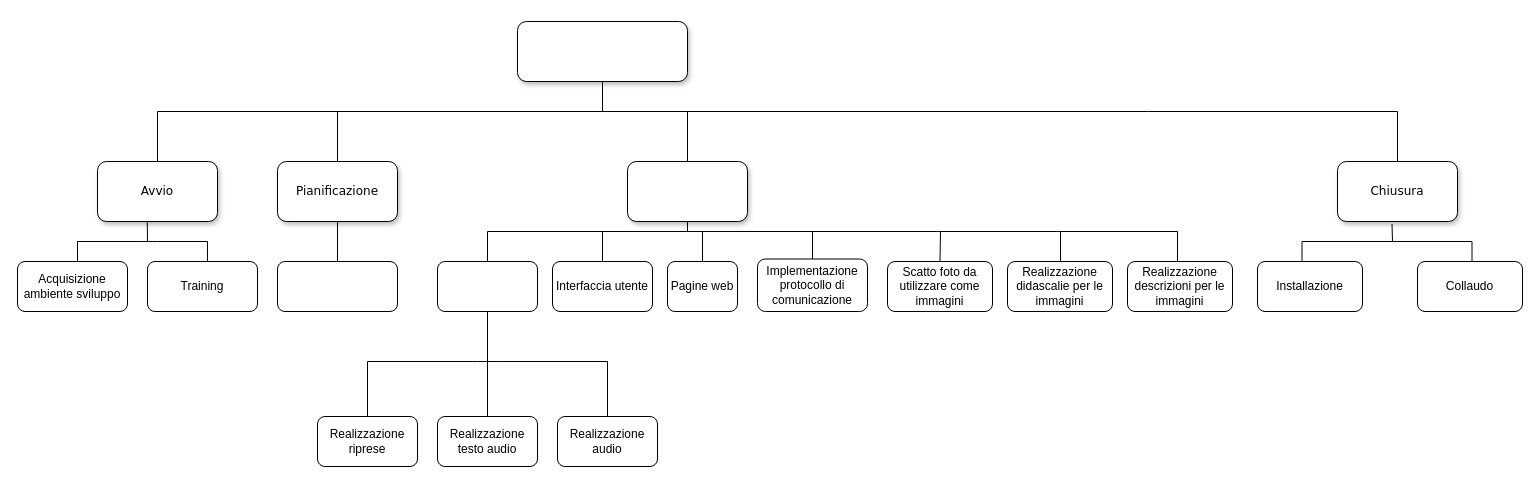
Image size: 1540x484. Some labels were removed from this diagram. Each missing label, with the centre of its shape:
"Progettazione" belongs at pixel 337 286.
"Progetto Biagiotti-Angeli" belongs at pixel 603 52.
"Realizzazione" belongs at pixel 688 192.
"Video" belongs at pixel 487 286.
